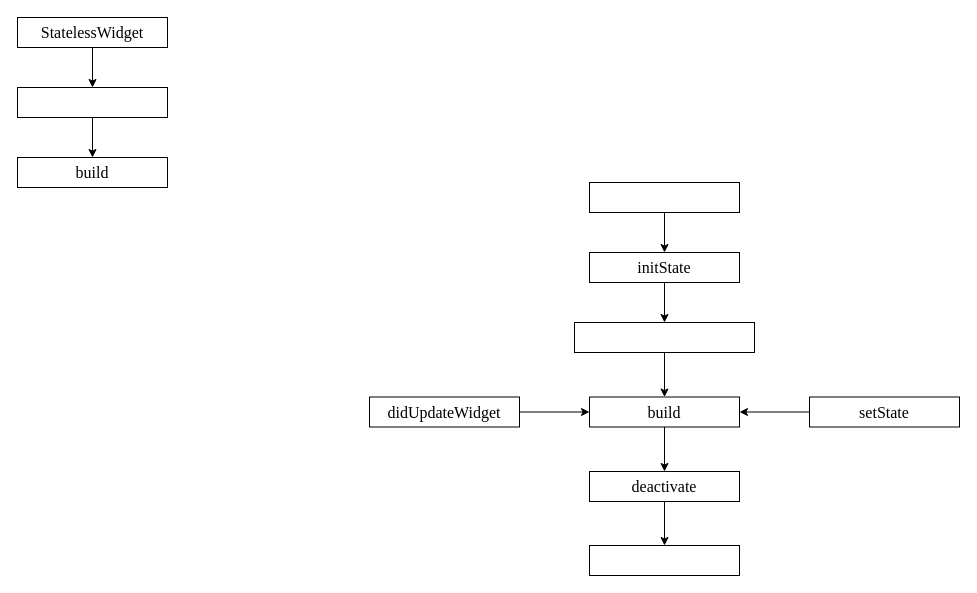
This 977x593 diagram has some shape labels left out. The centre of each missing label's shape, as x and y in pixels:
"Constructor" goes at pixel 92 102.
"didChangeDependencies" goes at pixel 664 337.
"dispose" goes at pixel 664 560.
"State" goes at pixel 664 197.
